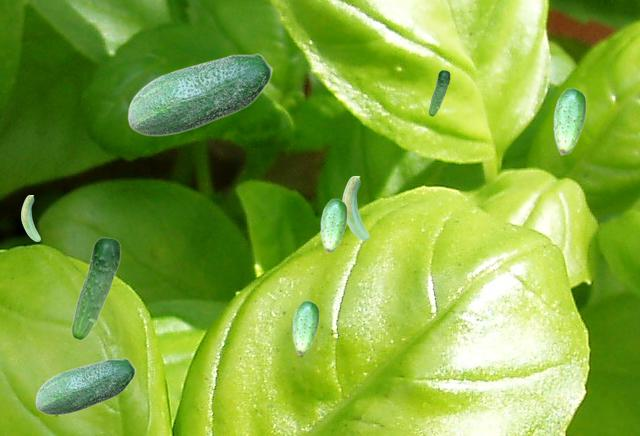cucumber: (127, 53, 272, 135), (35, 358, 135, 414), (70, 237, 120, 339), (553, 87, 585, 154), (342, 176, 368, 239), (320, 198, 346, 252), (292, 300, 318, 354), (428, 70, 449, 115), (21, 195, 39, 240)
